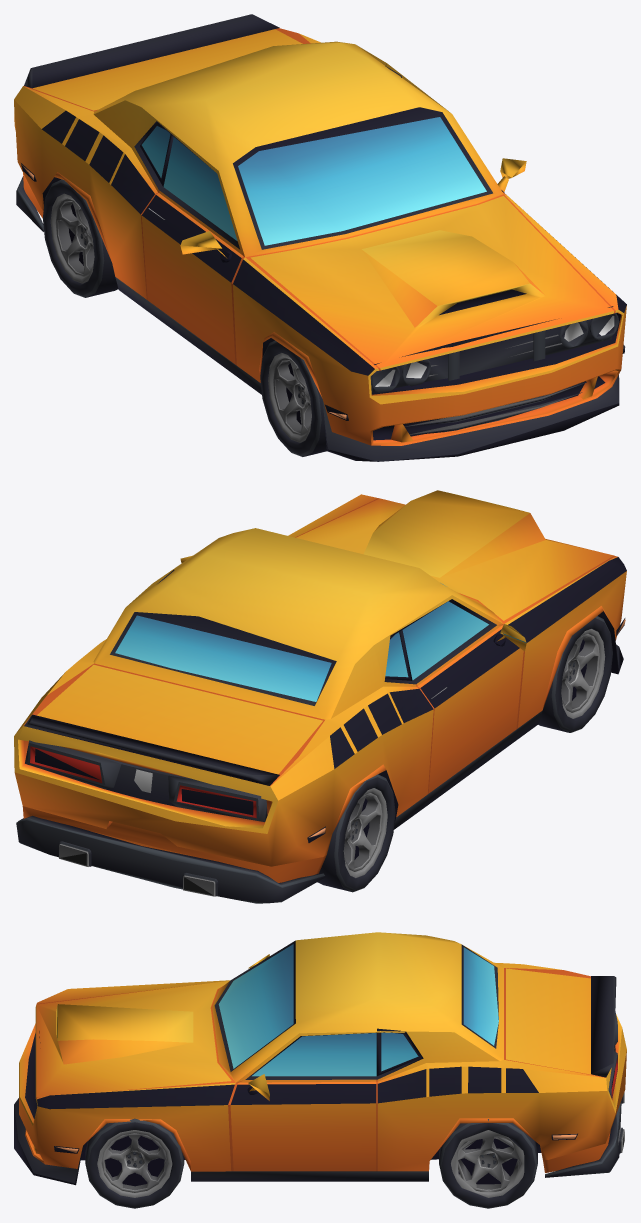
Rendered from hero-74.glb.
3 views of the same model, one above another, from view 1: azimuth 30°, elevation 25°; view 2: azimuth 150°, elevation 25°; view 3: azimuth 270°, elevation 25° (orthographic). The views are drawn at different scales.
Parts seen in each view (by area): view 1: Plane.007, Fast_Charger_RearRightWheel.003, Fast_Charger_FrontRightWheel.003; view 2: Plane.007, Fast_Charger_RearRightWheel.003, Fast_Charger_FrontRightWheel.003; view 3: Plane.007, Fast_Charger_FrontLeftWheel.003, Fast_Charger_RearLeftWheel.003.
Boxes of the visible parts, x1,y1,x2,y2 form: Plane.007: (14, 14, 626, 461); Fast_Charger_RearRightWheel.003: (42, 179, 118, 297); Fast_Charger_FrontRightWheel.003: (260, 340, 326, 456); Plane.007: (14, 490, 626, 903); Fast_Charger_RearRightWheel.003: (315, 774, 395, 892); Fast_Charger_FrontRightWheel.003: (538, 616, 612, 732); Plane.007: (14, 932, 626, 1185); Fast_Charger_FrontLeftWheel.003: (85, 1118, 184, 1208); Fast_Charger_RearLeftWheel.003: (439, 1119, 537, 1208).
Bounding box in the file's own units: 2.6 × 1.64 × 4.9.
Materials: 1 (1 with a texture image).
